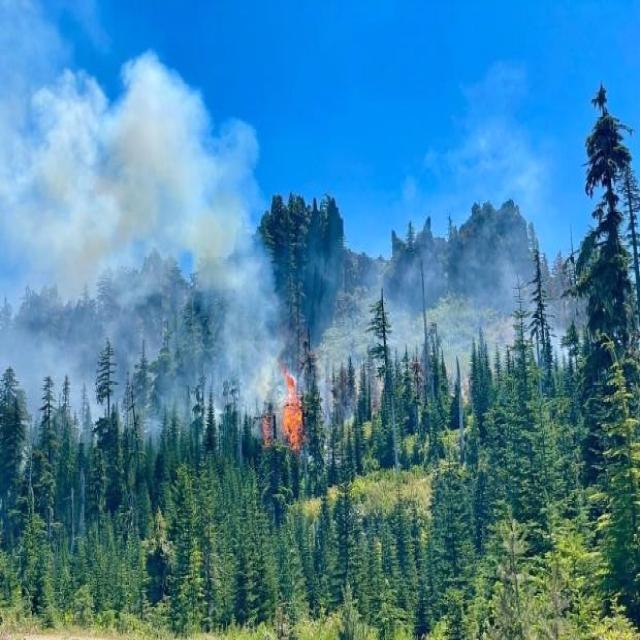Fire: (274, 377, 310, 448)
Smoke: (10, 26, 271, 436), (313, 222, 582, 382)
